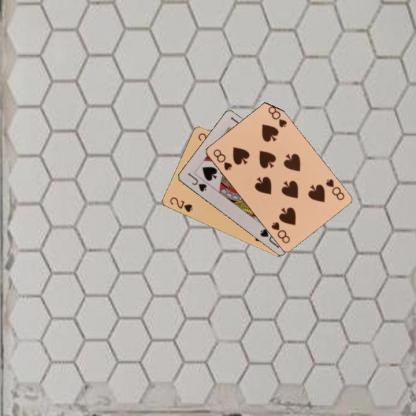2s: (168, 194, 194, 213)
8s: (210, 146, 233, 172), (323, 176, 346, 202)
Js: (185, 170, 208, 193)
